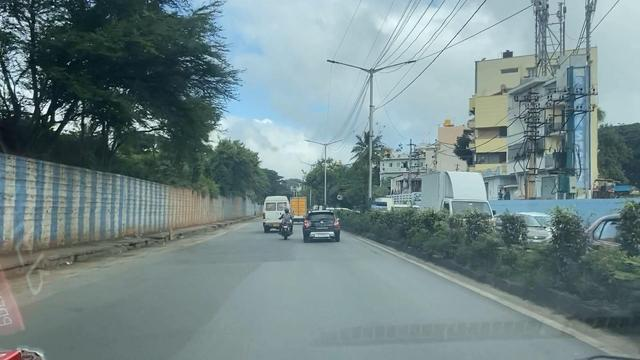LMV: (304, 212, 340, 243), (280, 209, 293, 241)
